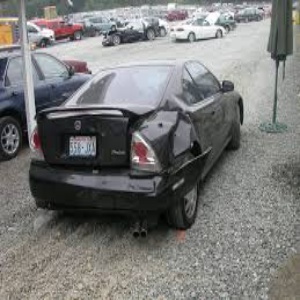bonnet: (106, 53, 275, 118)
bumper: (103, 156, 213, 225)
